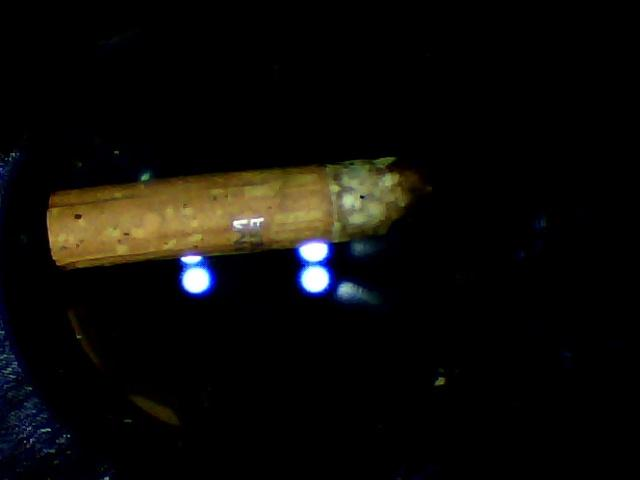megot: (44, 141, 434, 283)
